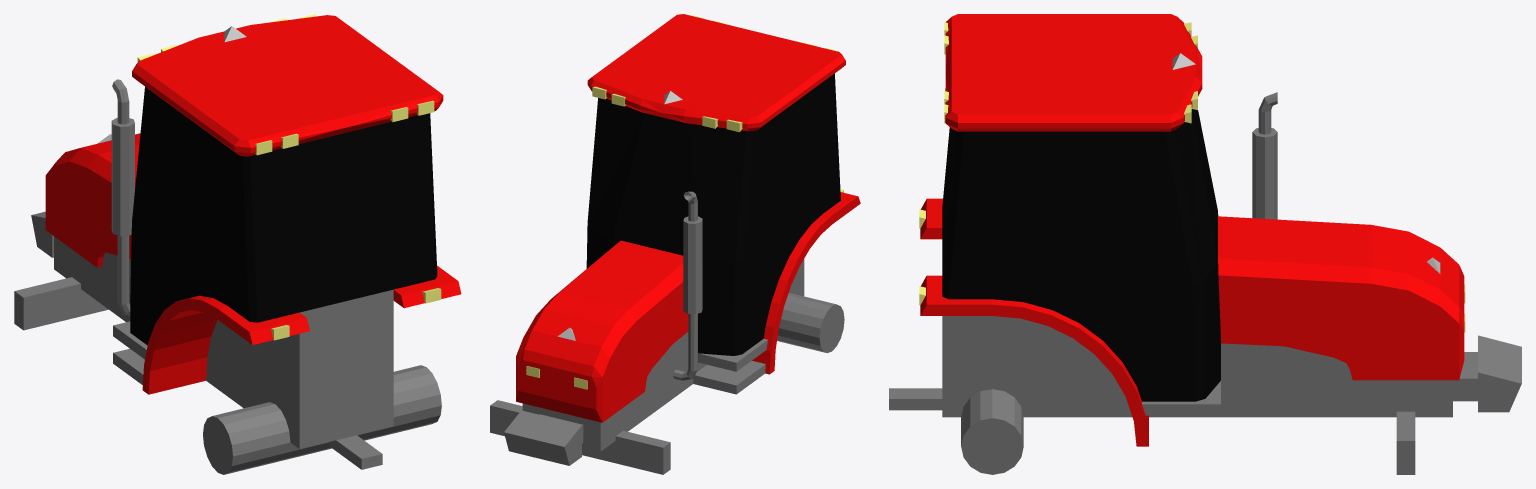
The model's file is tractor.glb.
3 views of the same model, side by side, from view 1: azimuth 30°, elevation 25°; view 2: azimuth 150°, elevation 25°; view 3: azimuth 270°, elevation 25° (orthographic). The views are drawn at different scales.
Bounding box in the file's own units: 2.22 × 3.6 × 5.59.
